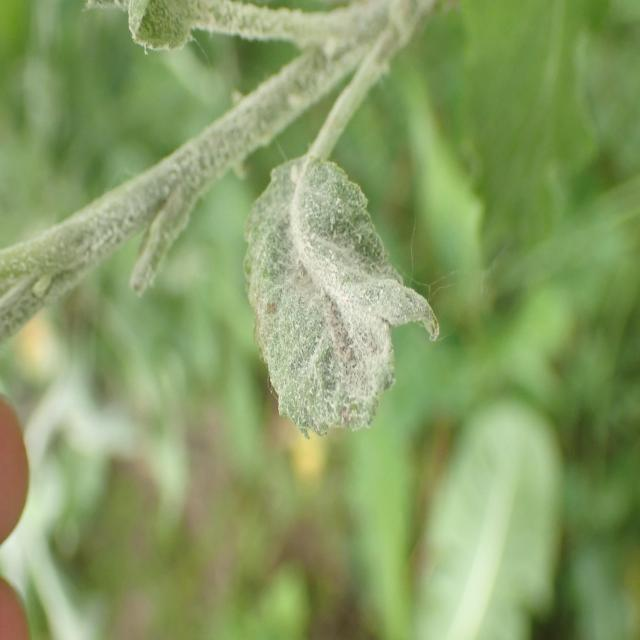Powdery_mildew: (235, 130, 438, 452), (60, 0, 289, 64)
